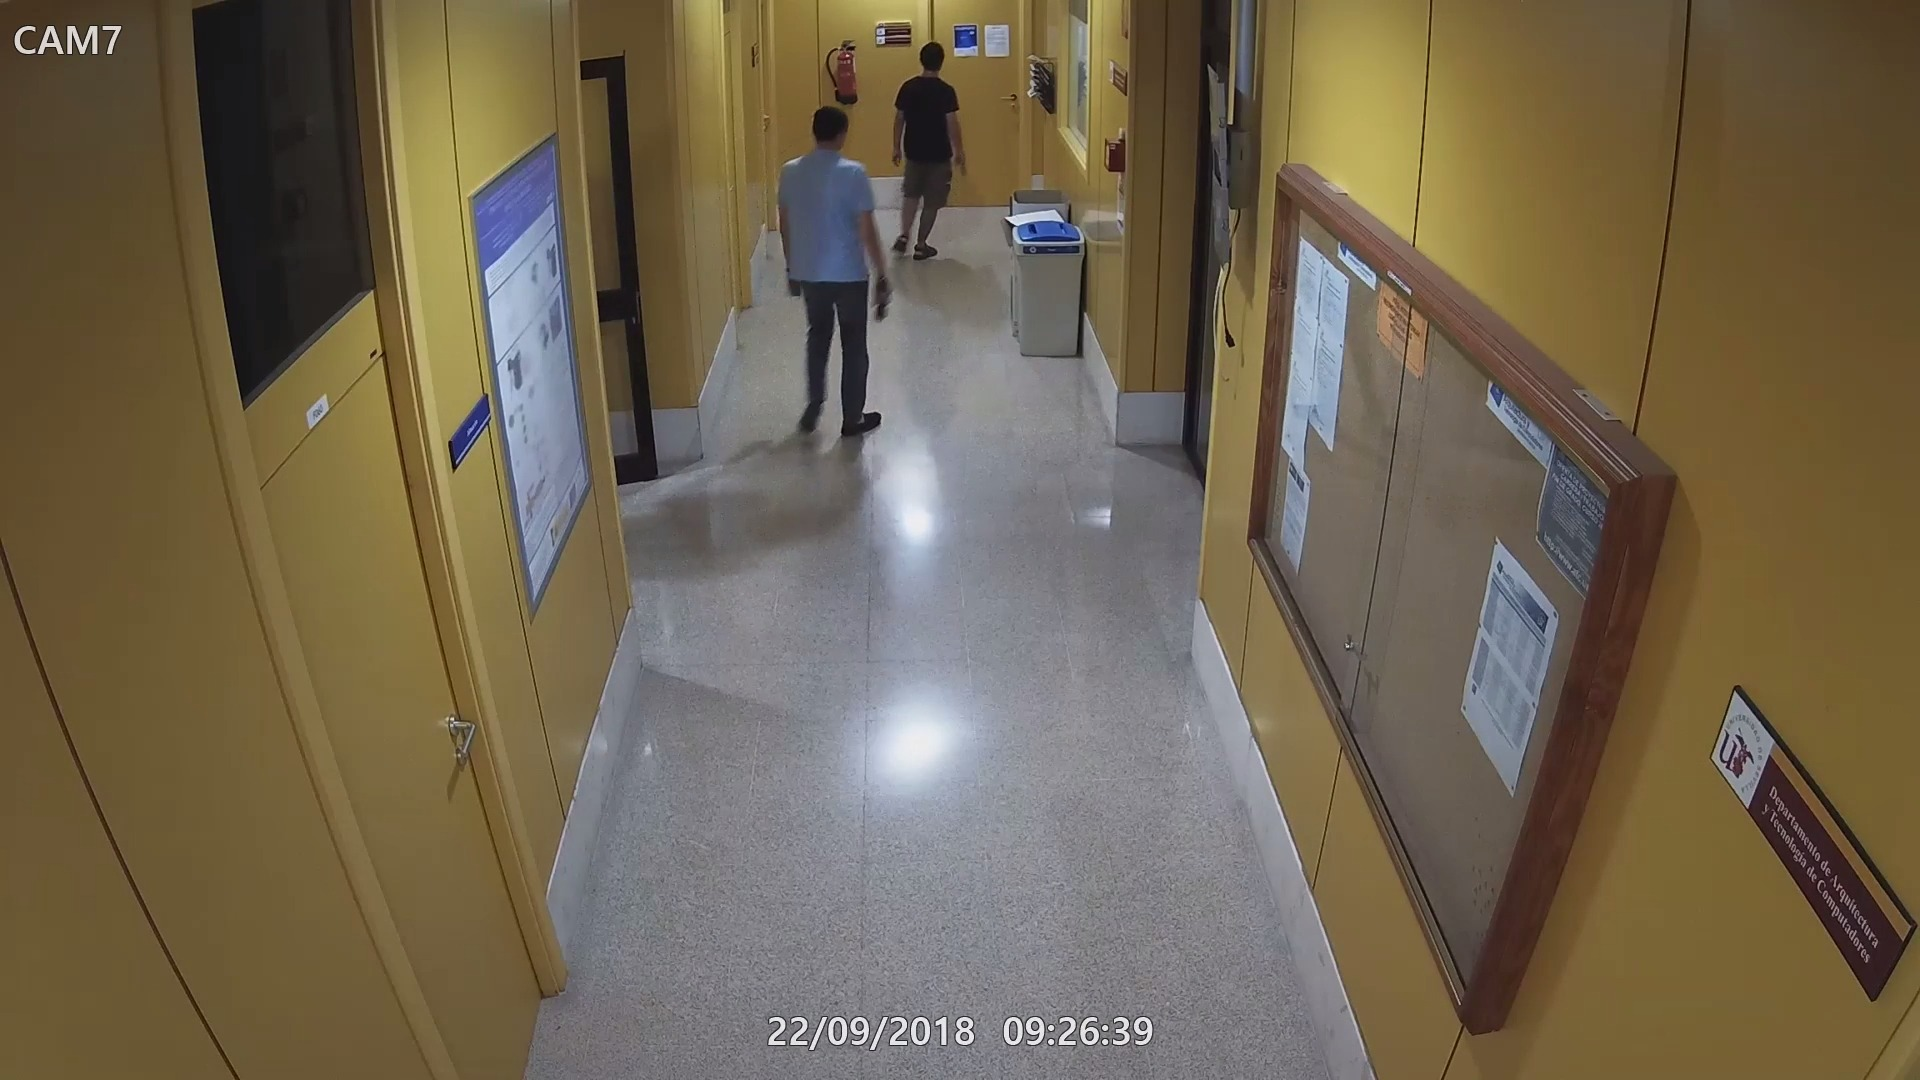Handgun: (949, 146, 975, 179)
